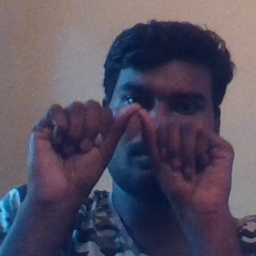A: (55, 94, 213, 200)
